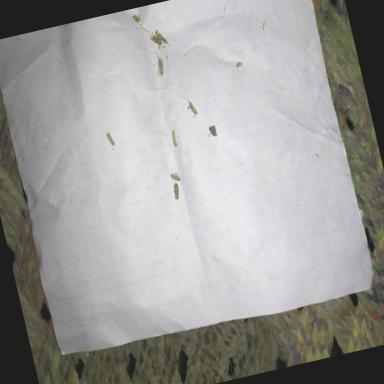pbw: (152, 50, 166, 80), (186, 96, 200, 118), (156, 30, 171, 48), (169, 172, 183, 190), (171, 178, 182, 200), (150, 32, 164, 47), (106, 131, 116, 151), (170, 126, 179, 148)
